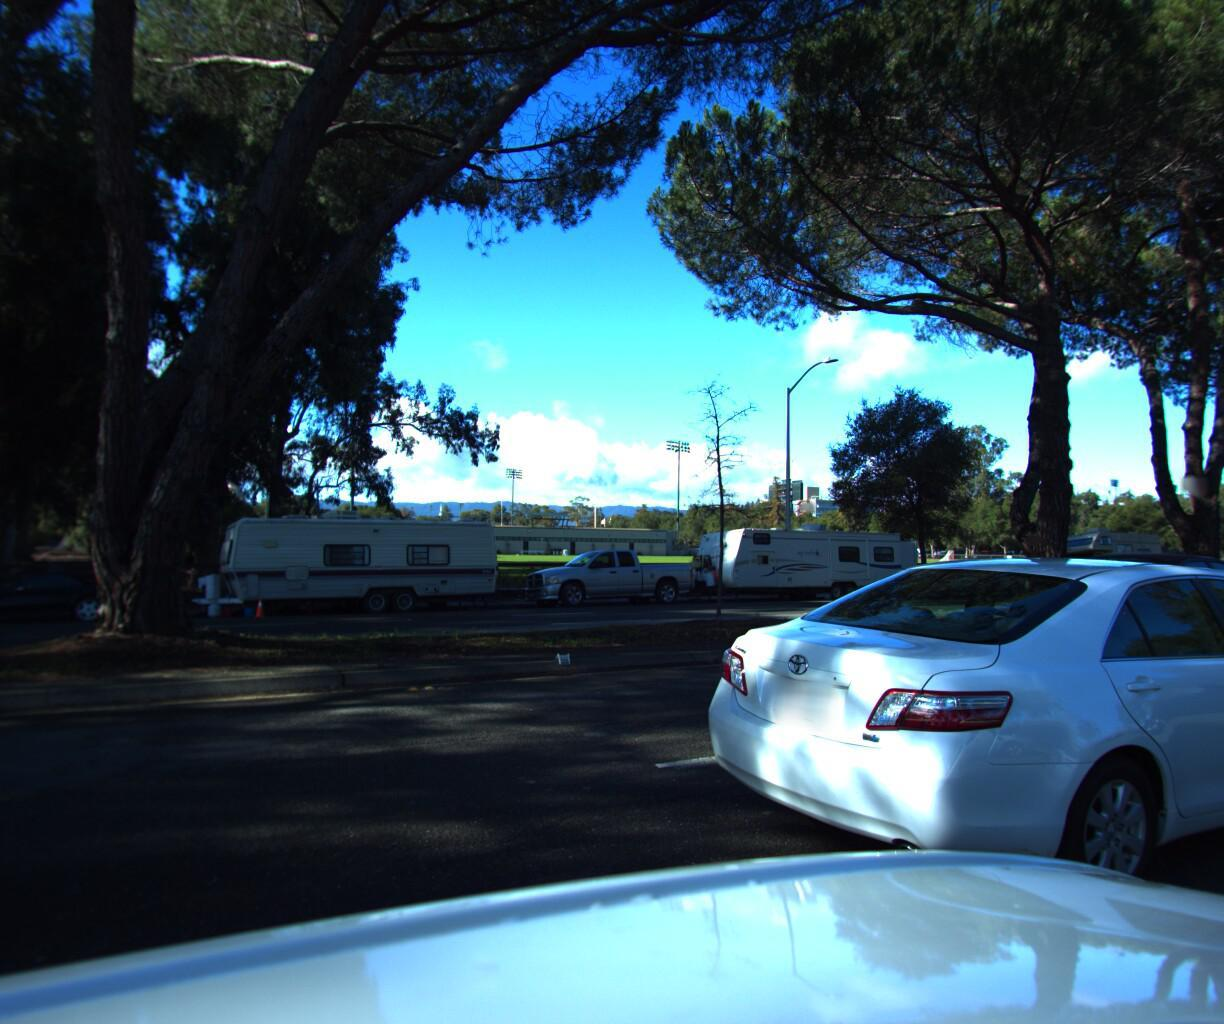car: (658, 545, 1224, 1007), (992, 541, 1224, 671), (512, 544, 699, 609), (0, 567, 130, 634), (918, 549, 1028, 593), (1124, 543, 1209, 585)
other_vehicle: (179, 498, 511, 622), (666, 513, 904, 604), (1032, 519, 1163, 587)
